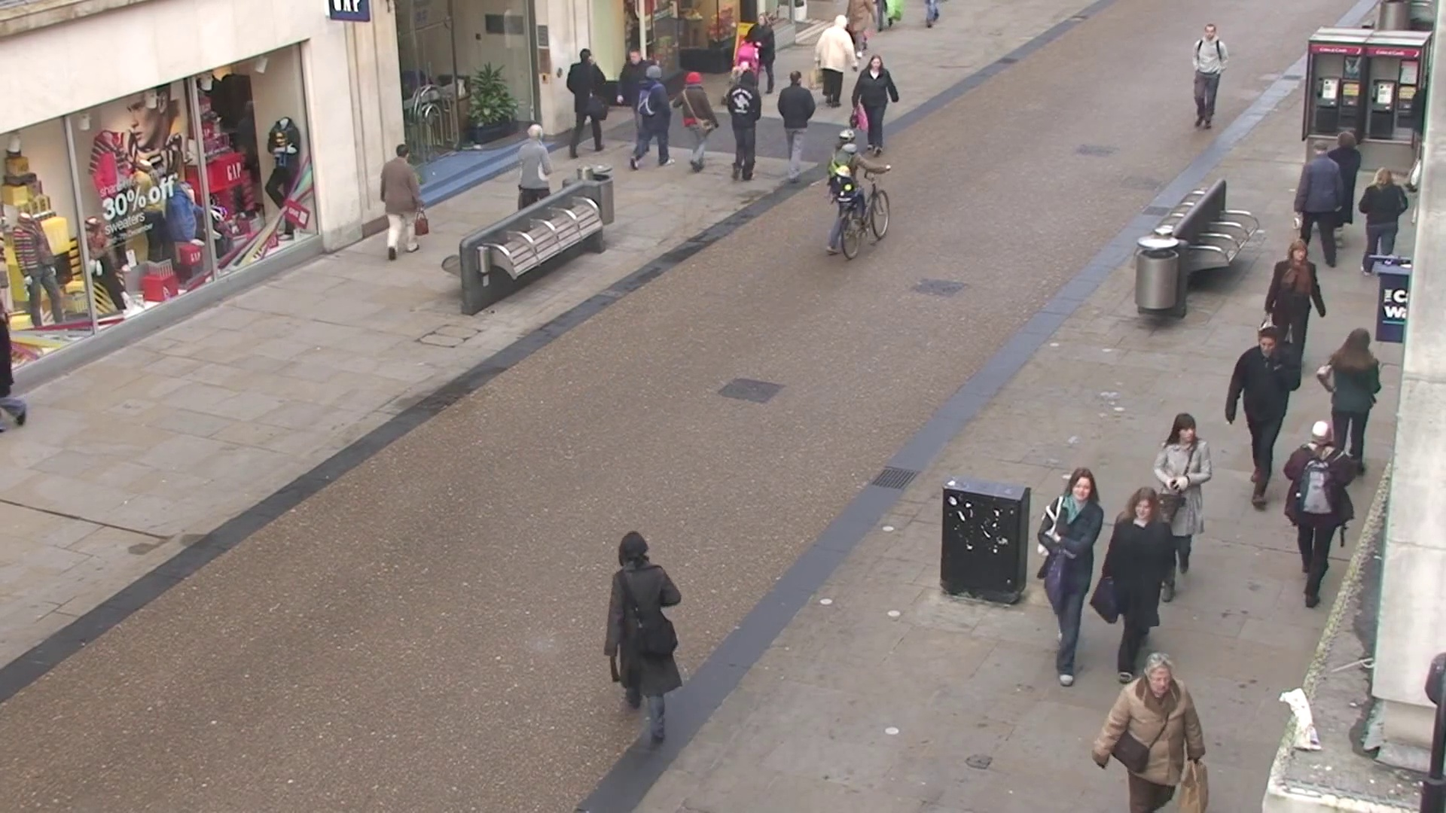person: (1091, 654, 1207, 813), (606, 531, 685, 750), (1091, 485, 1177, 680), (1223, 321, 1304, 513), (1037, 469, 1107, 686), (1283, 419, 1359, 607), (1151, 412, 1213, 592), (1317, 326, 1383, 470), (1264, 240, 1326, 359), (1295, 136, 1350, 269), (380, 142, 428, 261), (626, 51, 673, 169), (564, 46, 614, 156), (504, 118, 558, 212), (1358, 165, 1410, 260), (851, 53, 900, 153), (725, 65, 763, 184), (676, 71, 720, 172), (0, 288, 29, 433), (1192, 23, 1231, 130), (776, 71, 817, 172), (816, 12, 856, 110)
